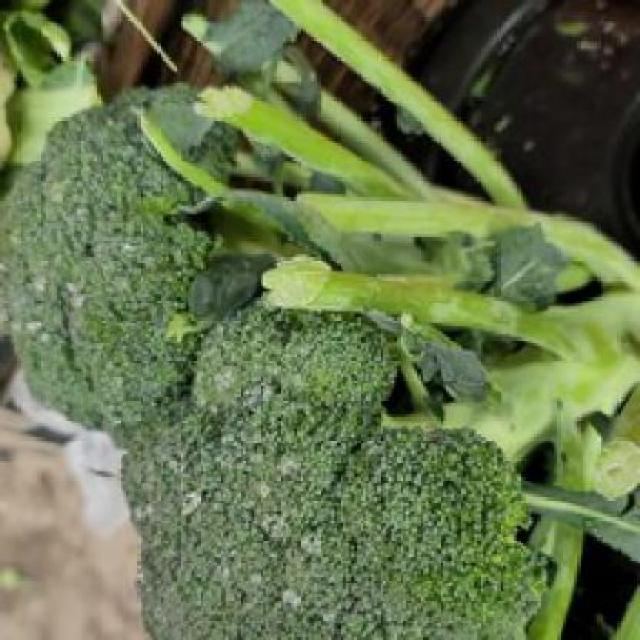broccoli: (132, 297, 638, 637), (1, 98, 240, 434)
